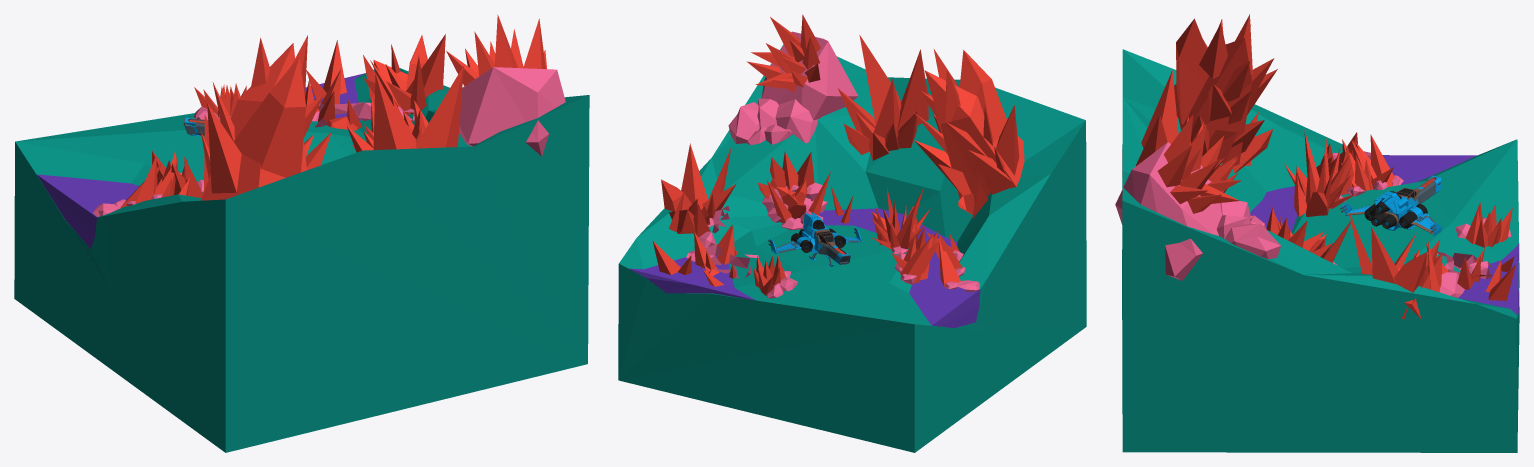
The model's file is no-man-s-sky-ship---on-planet-by-jacques-fourie-466Hz6c-IjZ.glb.
3 views of the same model, side by side, from view 1: azimuth 30°, elevation 25°; view 2: azimuth 150°, elevation 25°; view 3: azimuth 270°, elevation 25° (orthographic). The views are drawn at different scales.
Parts seen in each view (by area): view 1: group1165319884, group1086494686, group633952088, group425039343, group986920076, group1563733943, group1836491411, group1232847457, group1087394696, group1739881348, group892632473; view 2: group1165319884, group425039343, group986920076, group1086494686, group941546060, group633952088, group1232847457, group1836491411, group1787131132, group1563733943, group282378830, group1087394696 (+11 smaller); view 3: group1165319884, group1086494686, group425039343, group941546060, group986920076, group633952088, group282378830, group1232847457, group1052882998, group1087394696, group1106882358, group892632473 (+19 smaller).
Part boxes in pixels (x1,y1,x2,y2): group1165319884: (14,68,589,452); group1086494686: (459,67,565,156); group633952088: (234,57,306,177); group425039343: (37,73,364,249); group986920076: (201,43,306,200); group1563733943: (207,103,241,193); group1836491411: (415,65,463,148); group1232847457: (373,74,416,149); group1087394696: (406,34,445,97); group1739881348: (494,14,517,67); group892632473: (523,18,545,68); group1165319884: (618,44,1086,452); group425039343: (629,208,980,328); group986920076: (924,70,1024,202); group1086494686: (761,31,858,120); group941546060: (768,212,861,266); group633952088: (959,50,1006,142); group1232847457: (897,49,928,131); group1836491411: (859,34,901,125); group1787131132: (775,99,818,143); group1563733943: (996,105,1019,175); group282378830: (728,102,759,143); group1087394696: (681,143,708,209); group1165319884: (1122,49,1519,452); group1086494686: (1115,142,1222,280); group425039343: (1250,155,1519,315); group941546060: (1340,175,1441,235); group986920076: (1174,38,1251,166); group633952088: (1176,18,1208,124); group282378830: (1225,223,1280,259); group1232847457: (1141,70,1178,148); group1052882998: (1199,23,1227,78); group1087394696: (1371,227,1398,283); group1106882358: (1394,252,1426,319); group892632473: (1157,145,1191,187).
Size of the model in its own units: 3.96 by 3.51 by 3.96.
